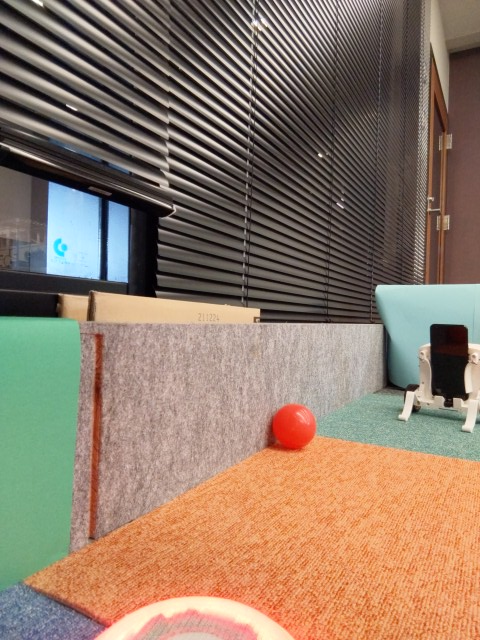f: (393, 320, 480, 438)
r: (91, 590, 305, 640)
